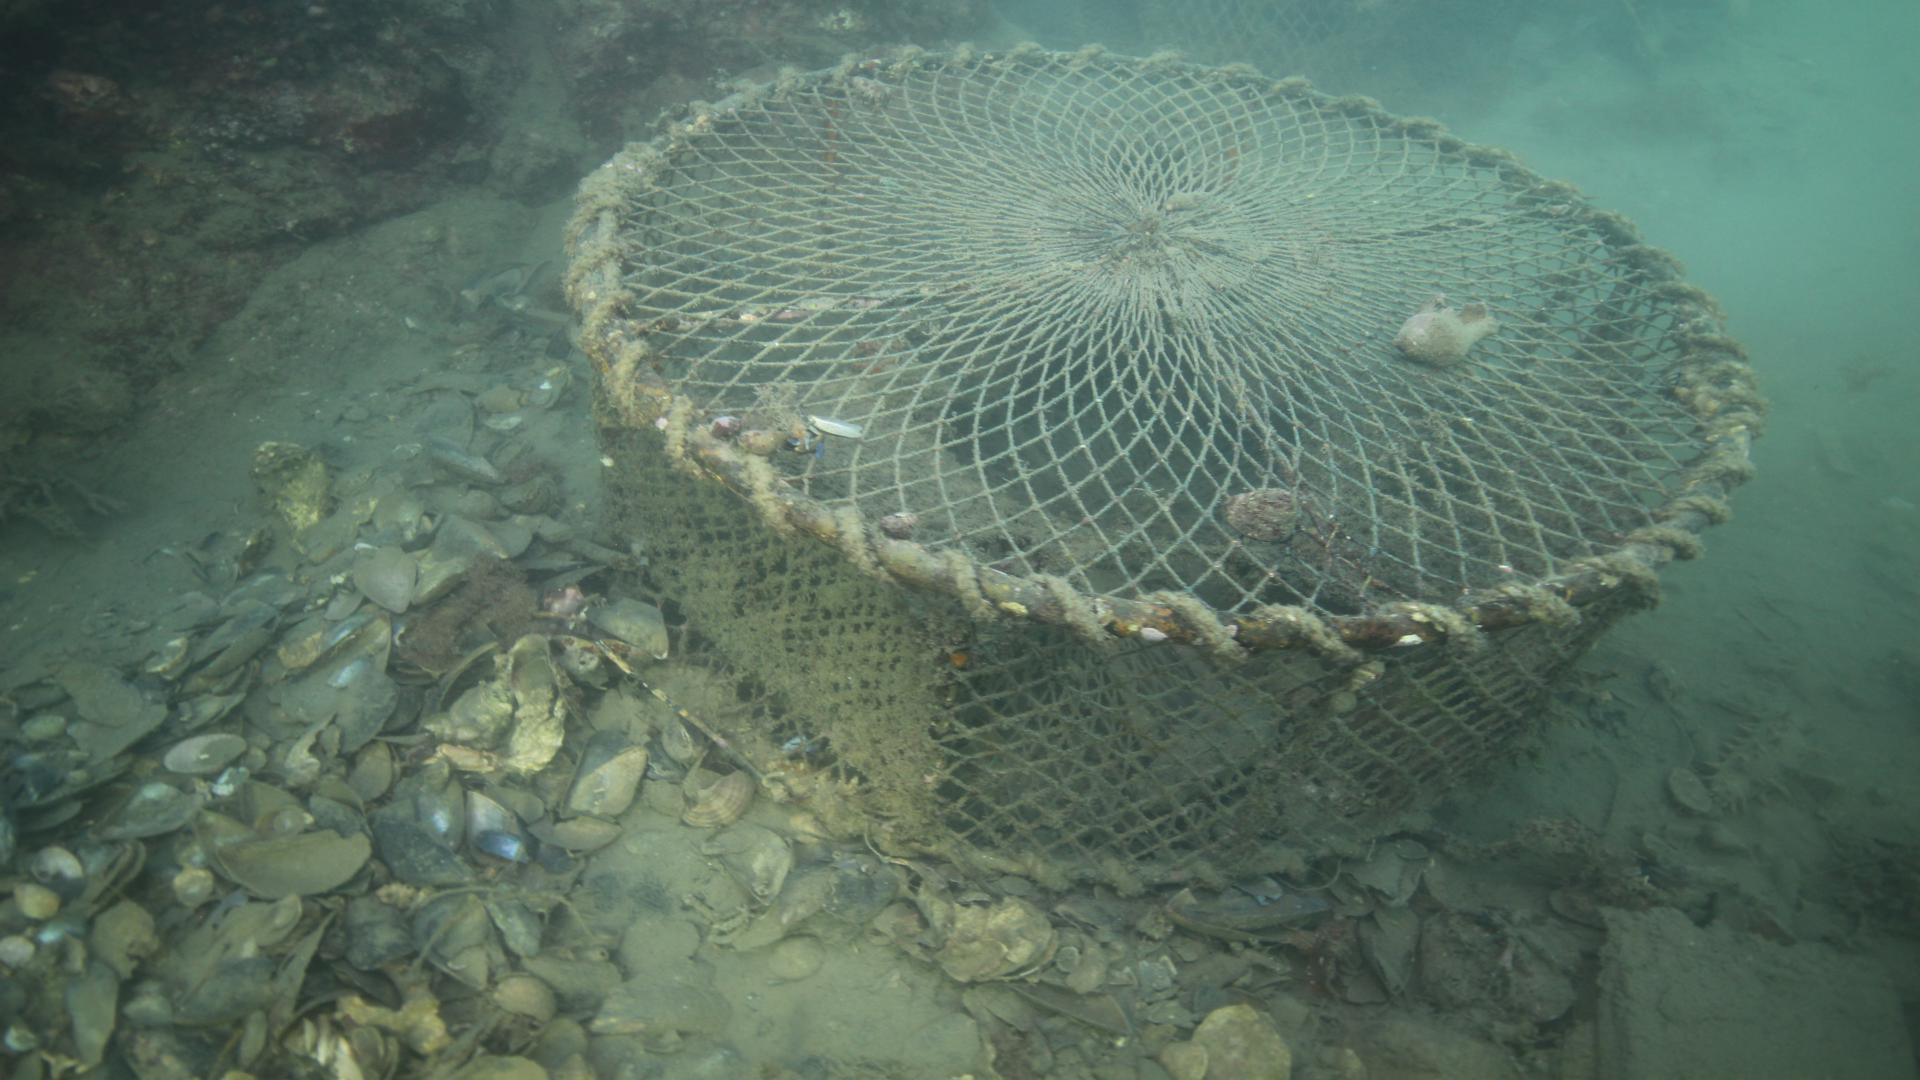circular fish trap: (559, 37, 1763, 895)
